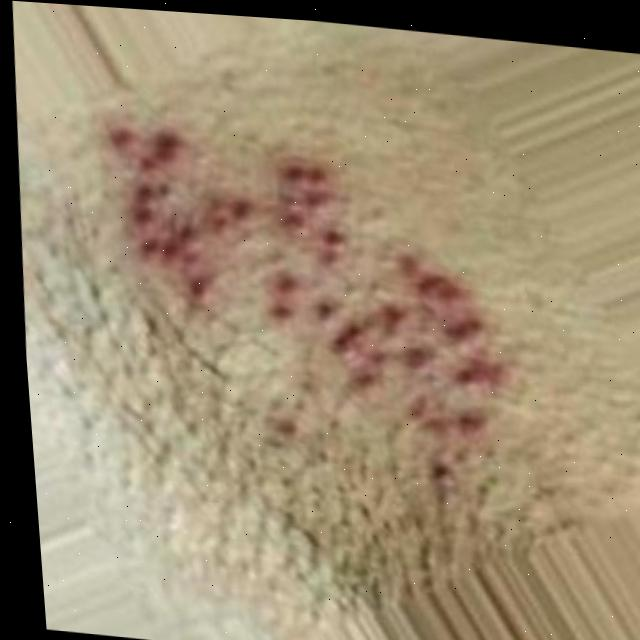Shingles: (92, 119, 523, 448)
